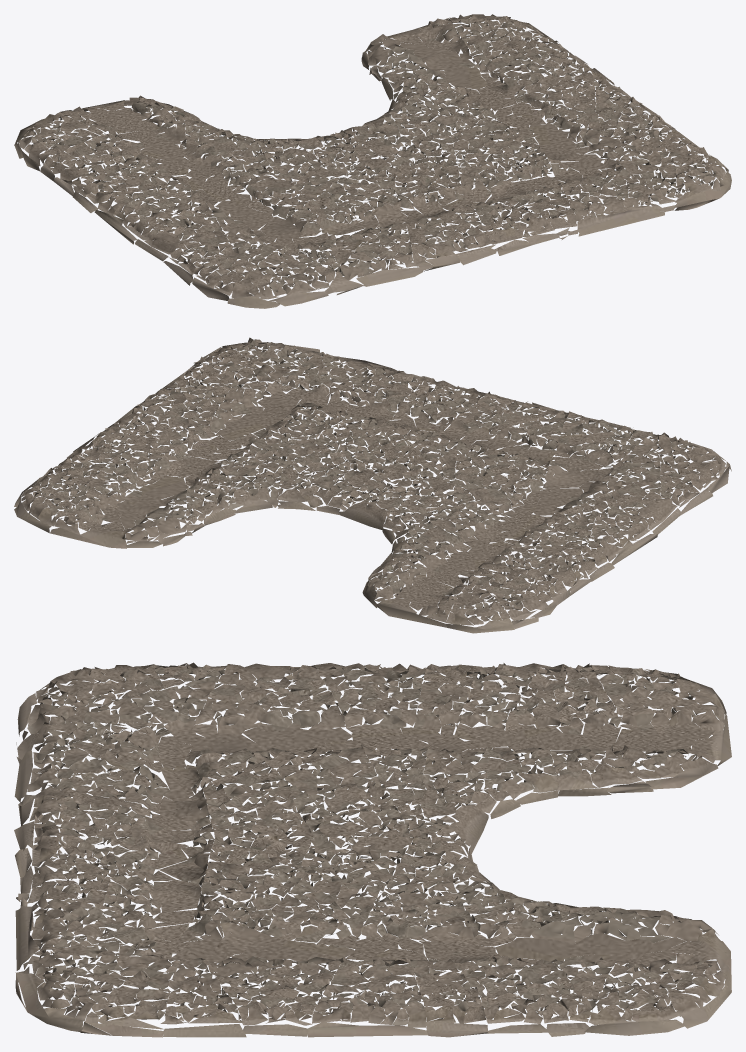
The model's file is bath-toilet-mat.glb.
The picture shows the model from 3 angles, top to bottom: view 1: azimuth 30°, elevation 25°; view 2: azimuth 150°, elevation 25°; view 3: azimuth 270°, elevation 25°; orthographic projection. The views are drawn at different scales.
Visible parts, largest first — view 1: Mesh_0; view 2: Mesh_0; view 3: Mesh_0.
Boxes of the visible parts, x1,y1,x2,y2 form: Mesh_0: (14,14,731,308); Mesh_0: (14,337,731,633); Mesh_0: (14,662,731,1037).
Size of the model in its own units: 1.9 by 0.052 by 1.59.
1 material, 1 textured.
